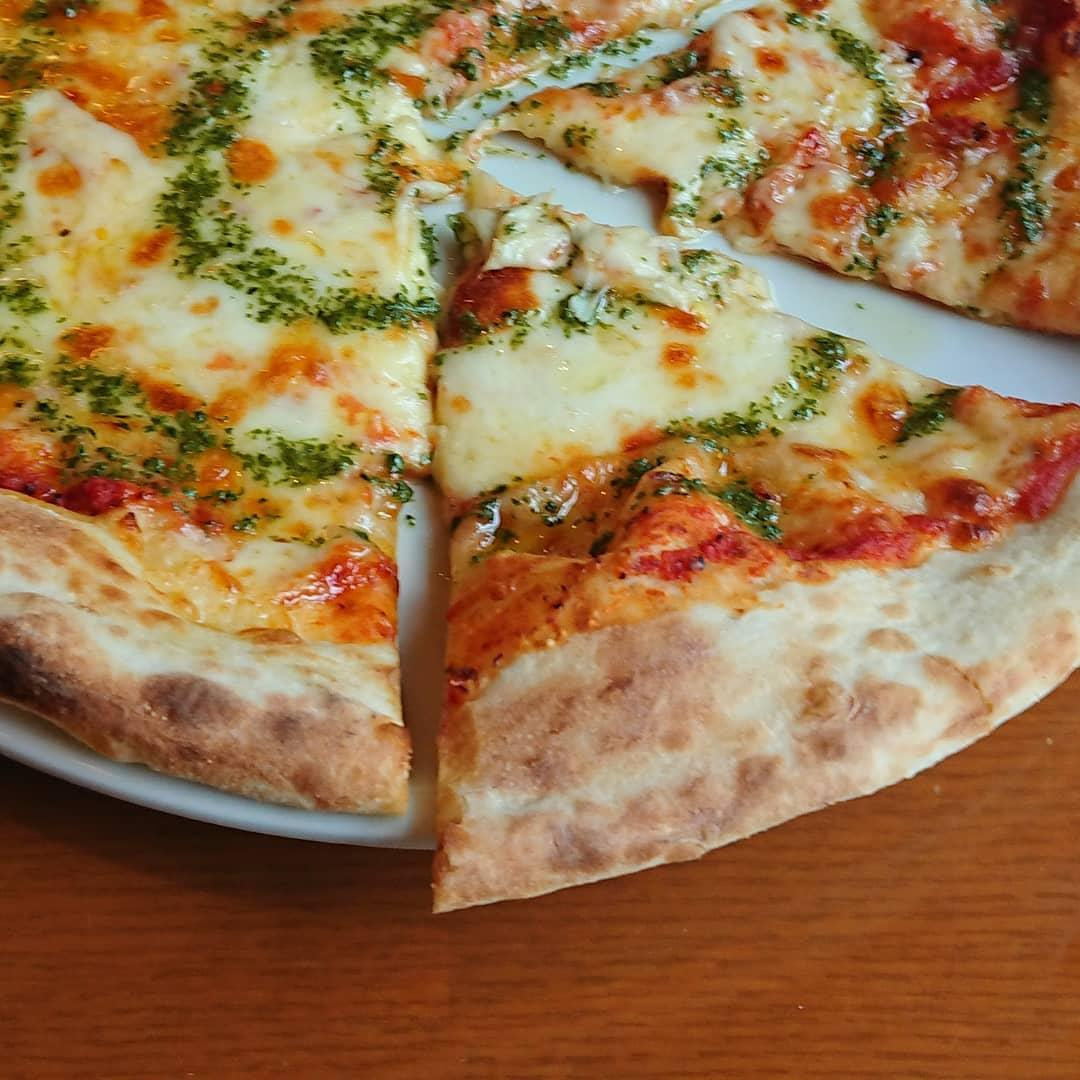Cheese: (485, 203, 582, 274)
Pizza: (1, 0, 1080, 925)
